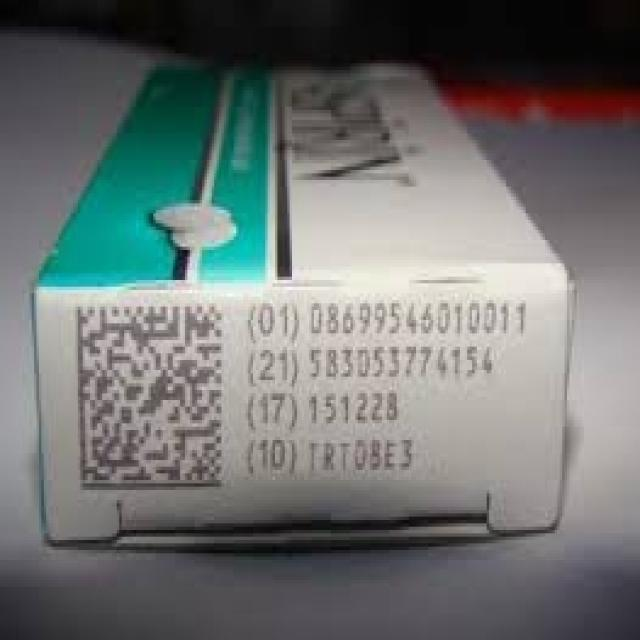datamatrix: (66, 293, 231, 500)
